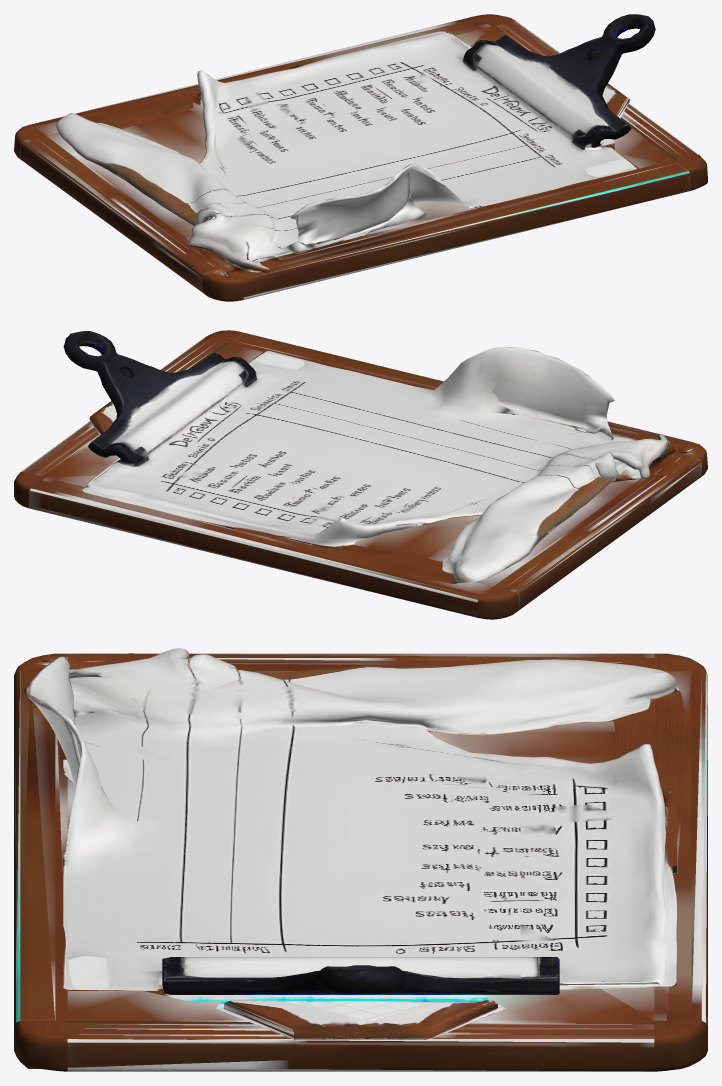
Rendered from Meshy_AI_Old_delivery_list_cli_0306044528_texture.fbx.
3 renders of one model, top to bottom at view 1: azimuth 30°, elevation 25°; view 2: azimuth 150°, elevation 25°; view 3: azimuth 270°, elevation 25°, orthographic. The views are drawn at different scales.
Parts seen in each view (by area): view 1: Mesh_0; view 2: Mesh_0; view 3: Mesh_0.
Part boxes in pixels (left/top/right/bottom): Mesh_0: left=14, top=14, right=707, bottom=301; Mesh_0: left=14, top=330, right=707, bottom=619; Mesh_0: left=14, top=648, right=707, bottom=1071.
Size of the model in its own units: 191 by 27.79 by 132.
Materials: 1 (1 with a texture image).
